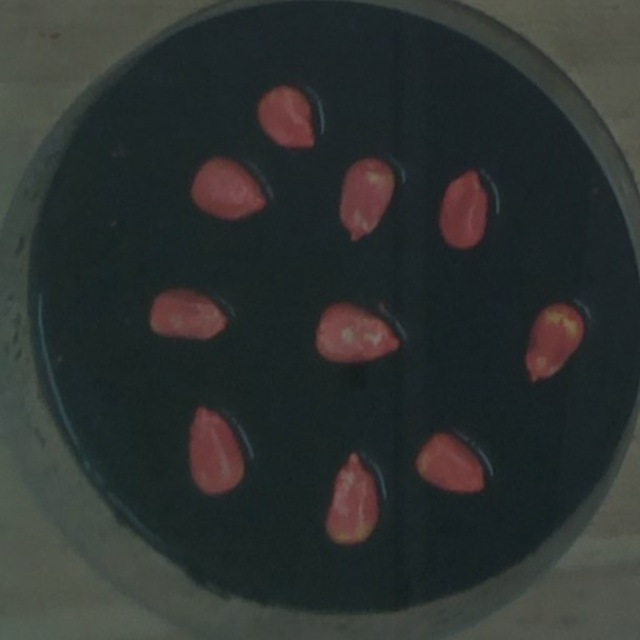Zea mays: (308, 293, 406, 371), (316, 446, 385, 552), (184, 150, 277, 228), (181, 401, 250, 503), (517, 296, 590, 392), (330, 151, 400, 249), (407, 424, 491, 502), (432, 159, 495, 257), (142, 282, 235, 346), (249, 77, 322, 157)
